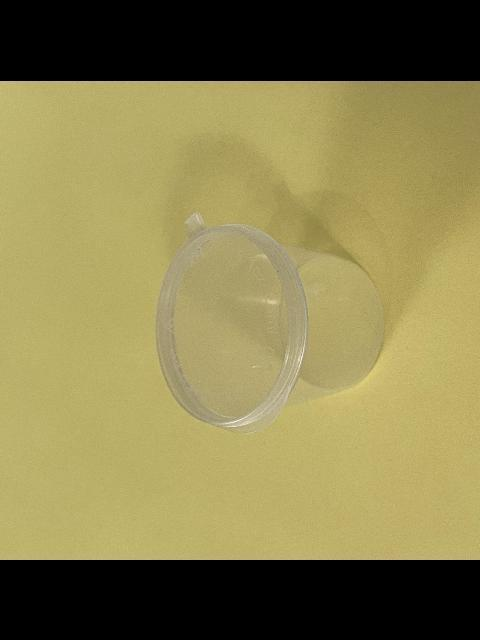plasticcontainer: (152, 208, 386, 434)
